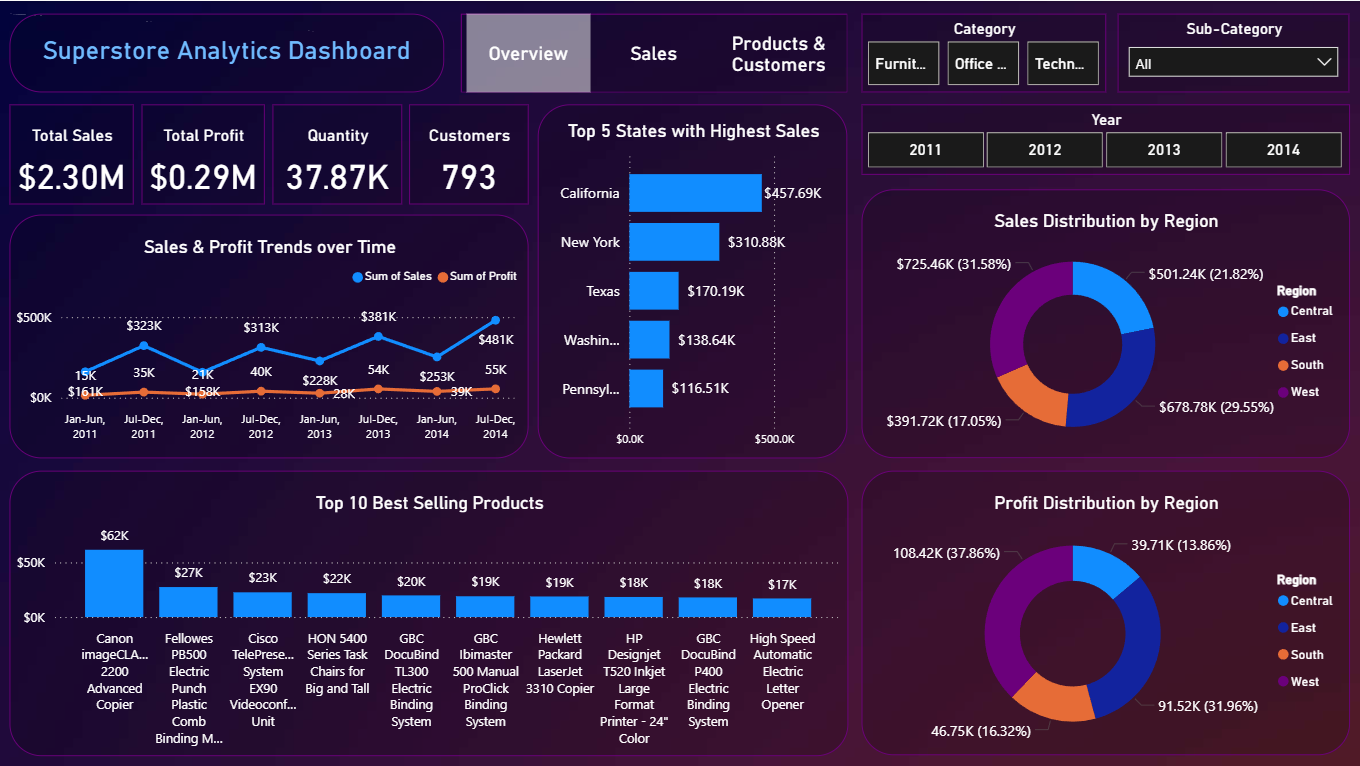

What the dashboard file says about the page in this screenshot:
{"tool":"powerbi","page":{"name":"Overview","canvas":[1280,720],"ordinal":0},"visuals":[{"type":"textbox","box":[10.8,12,408.2,74.2],"z":0},{"type":"card","title":"Total Sales","fields":{"Values":["Sum(Orders.Sales)"]},"box":[10.8,97,116.5,93.9],"z":1000},{"type":"card","title":"Total Profit","fields":{"Values":["Sum(Orders.Profit)"]},"box":[134.9,97,115.4,93.8],"z":2000},{"type":"card","title":"Quantity ","fields":{"Values":["Sum(Orders.Quantity)"]},"box":[257.8,97,121.9,93.8],"z":3000},{"type":"card","title":"Customers","fields":{"Values":["Count(Orders.Customer ID)"]},"box":[386.2,97,112.2,93.9],"z":4000},{"type":"shape","box":[434.8,11.9,363.6,74.4],"z":5000},{"type":"actionButton","box":[440.2,11.9,116.5,74.4],"z":6000},{"type":"actionButton","box":[557.8,11.9,116.5,74.4],"z":7000},{"type":"actionButton","box":[675.3,11.9,116.5,74.4],"z":8000},{"type":"lineChart","title":"Sales & Profit Trends over Time","fields":{"Y":["Sum(Orders.Sales)","Sum(Orders.Profit)"],"Category":["Date Table.CustomTimeInterval"]},"box":[10.8,200.7,487.6,228.7],"z":9000},{"type":"donutChart","title":"Sales Distribution by Region","fields":{"Y":["Sum(Orders.Sales)"],"Series":["Orders.Region"]},"box":[811.3,176.9,458.5,252.4],"z":10000},{"type":"slicer","title":"Sub-Category","fields":{"Values":["Orders.Sub-Category"]},"box":[1051.9,11.9,217.9,74.4],"z":11000},{"type":"advancedSlicerVisual","fields":{"Values":["Orders.Category"]},"box":[811.3,11.9,229.8,74.4],"z":12000},{"type":"donutChart","title":"Profit Distribution by Region","fields":{"Y":["Sum(Orders.Profit)"],"Series":["Orders.Region"]},"box":[811.3,441.2,458.5,267.5],"z":13000},{"type":"advancedSlicerVisual","fields":{"Values":["Date Table.Year"]},"box":[811.3,97,458.5,65.8],"z":14000},{"type":"clusteredColumnChart","title":"Top 10 Best Selling Products","fields":{"Category":["Orders.Product Name"],"Y":["Sum(Orders.Sales)"]},"box":[11,441,788,268],"z":15000},{"type":"clusteredBarChart","title":"Top 5 States with Highest Sales","fields":{"Category":["Orders.State"],"Y":["Sum(Orders.Sales)"]},"box":[507,97.1,291.3,332.3],"z":16000}]}

Visuals, with their boxes in screenshot pixels (x1, y1, x2, y2), scaled from the page's 1280x720 canvas onto the 1360x766 screenshot:
textbox: x1=11 y1=13 x2=445 y2=92
"Total Sales" card: x1=11 y1=103 x2=135 y2=203
"Total Profit" card: x1=143 y1=103 x2=266 y2=203
"Quantity " card: x1=274 y1=103 x2=403 y2=203
"Customers" card: x1=410 y1=103 x2=530 y2=203
shape: x1=462 y1=13 x2=848 y2=92
actionButton: x1=468 y1=13 x2=591 y2=92
actionButton: x1=593 y1=13 x2=716 y2=92
actionButton: x1=718 y1=13 x2=841 y2=92
"Sales & Profit Trends over Time" lineChart: x1=11 y1=214 x2=530 y2=457
"Sales Distribution by Region" donutChart: x1=862 y1=188 x2=1349 y2=457
"Sub-Category" slicer: x1=1118 y1=13 x2=1349 y2=92
advancedSlicerVisual - Orders.Category: x1=862 y1=13 x2=1106 y2=92
"Profit Distribution by Region" donutChart: x1=862 y1=469 x2=1349 y2=754
advancedSlicerVisual - Date Table.Year: x1=862 y1=103 x2=1349 y2=173
"Top 10 Best Selling Products" clusteredColumnChart: x1=12 y1=469 x2=849 y2=754
"Top 5 States with Highest Sales" clusteredBarChart: x1=539 y1=103 x2=848 y2=457
